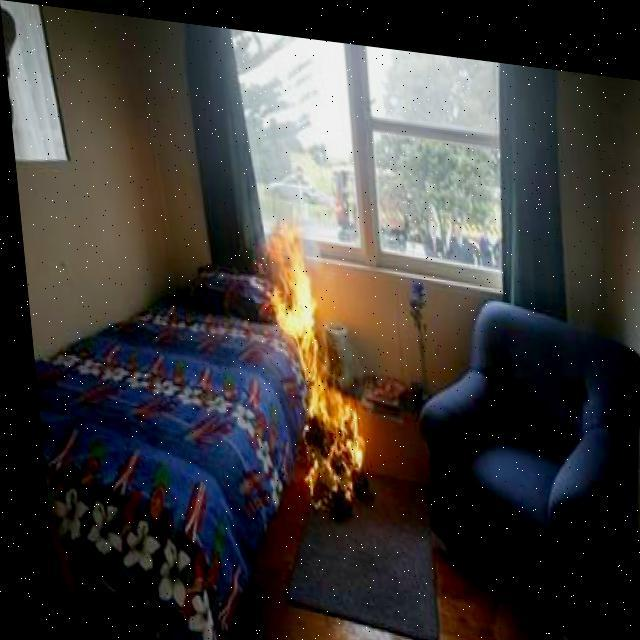Fire: (252, 208, 368, 515)
